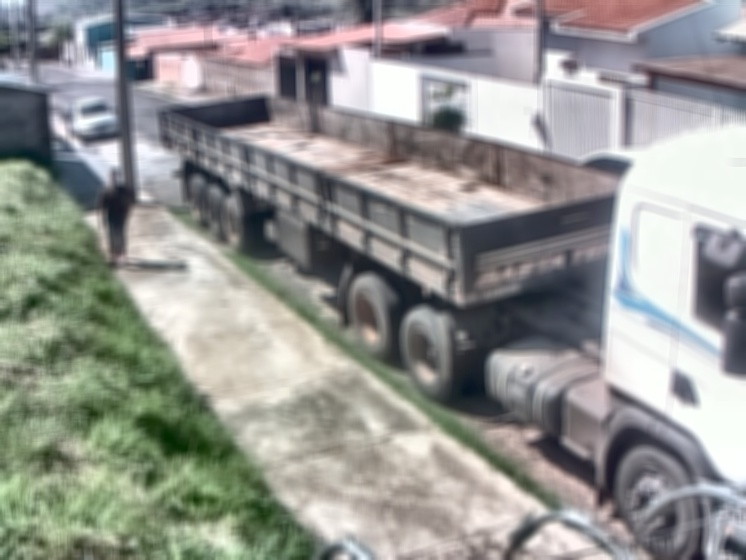person: (95, 167, 137, 268)
